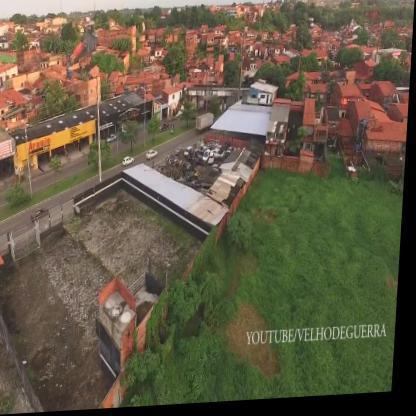lixo: (168, 158, 199, 182), (199, 144, 229, 168)
